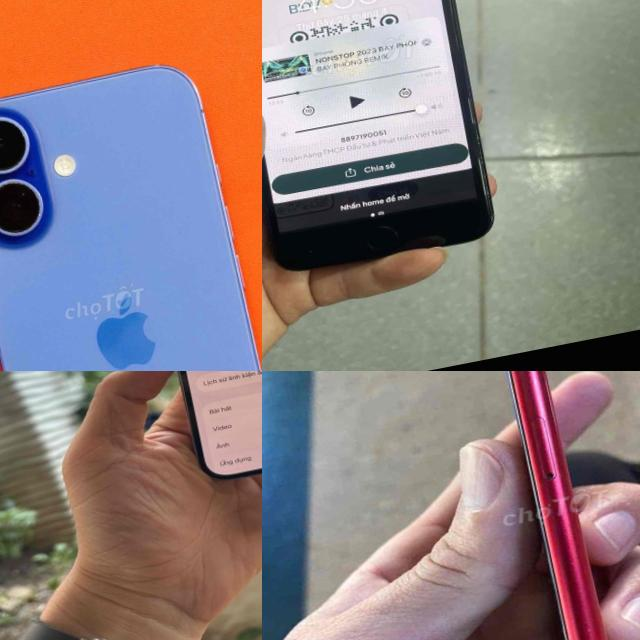gen_14: (124, 371, 262, 500)
gen_16: (0, 45, 262, 371)
gen_7_8: (262, 0, 511, 290), (462, 371, 640, 640)
